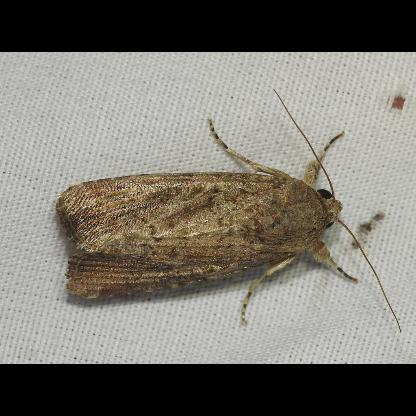Fall Armyworm Moth: (52, 88, 404, 336)
